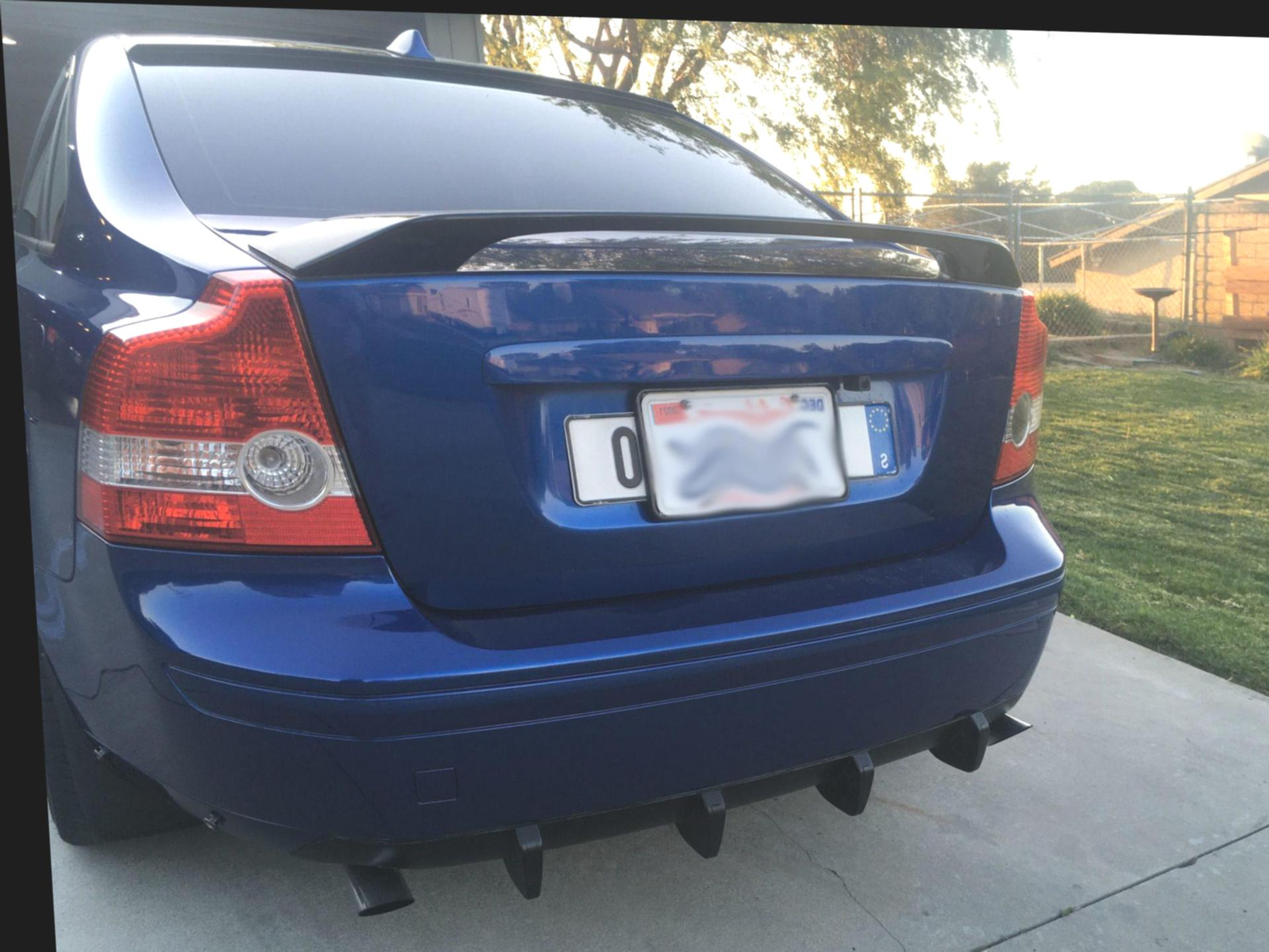License_Plate: (634, 370, 846, 531)
